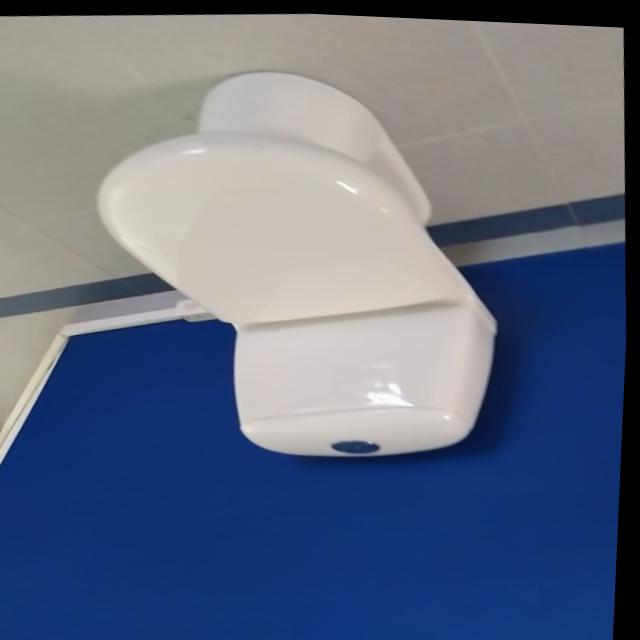toilet: (82, 50, 518, 473)
